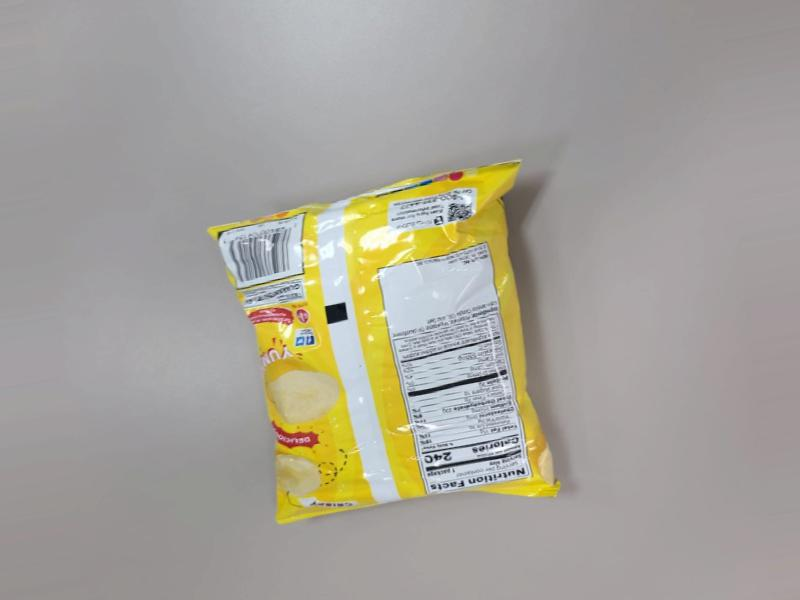lays: (197, 153, 539, 542)
